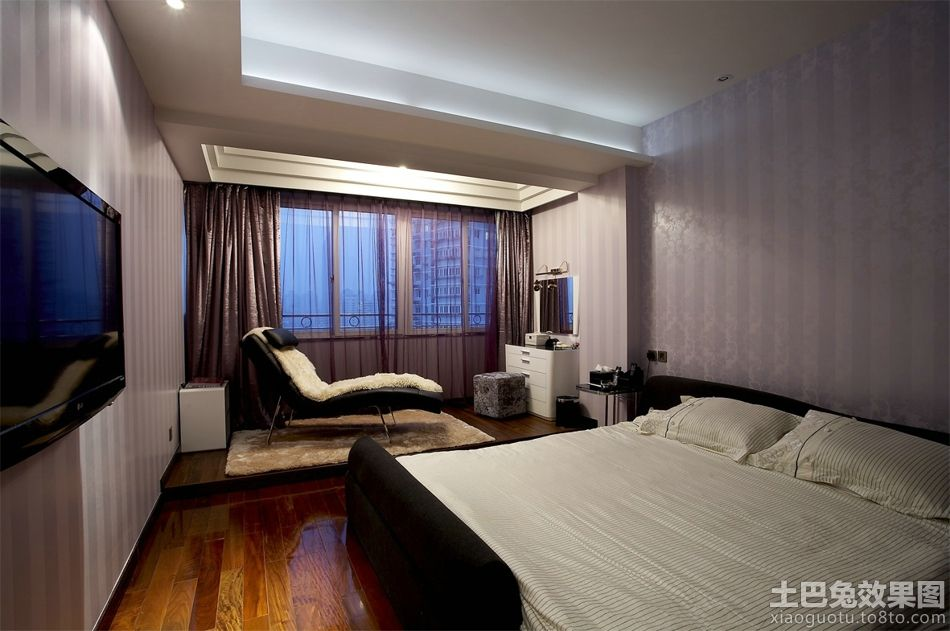床: (344, 412, 950, 619)
枕头: (632, 396, 930, 500)
灯: (166, 1, 189, 17), (715, 73, 736, 89)
